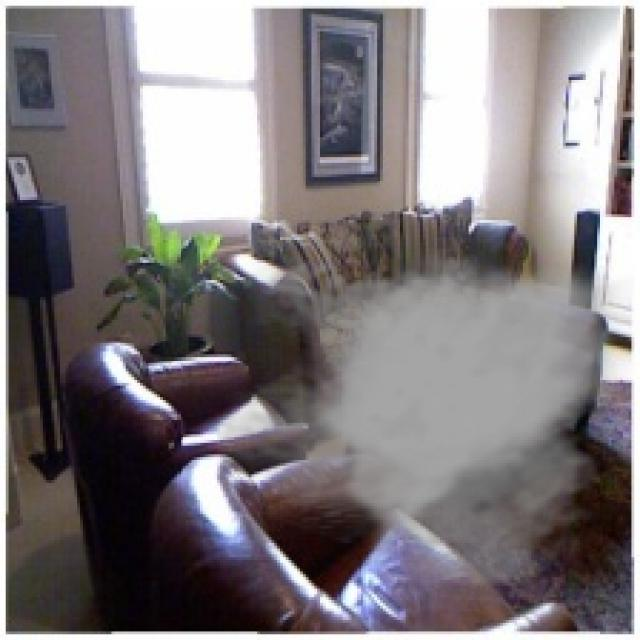smoke: (217, 248, 634, 592)
